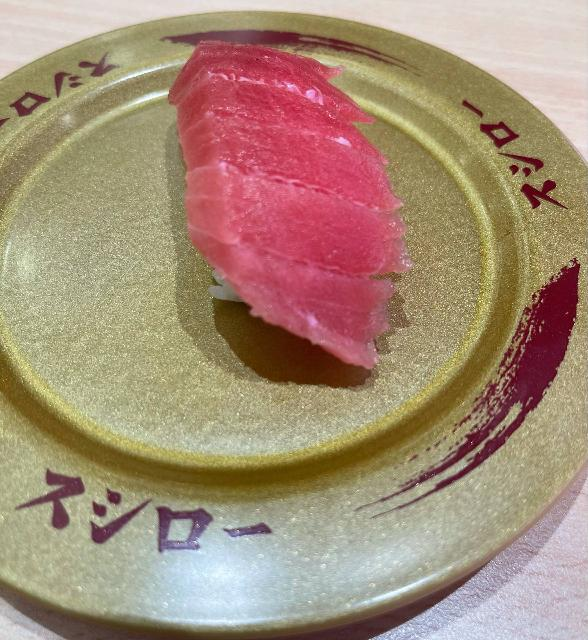jangold: (0, 37, 579, 617)
